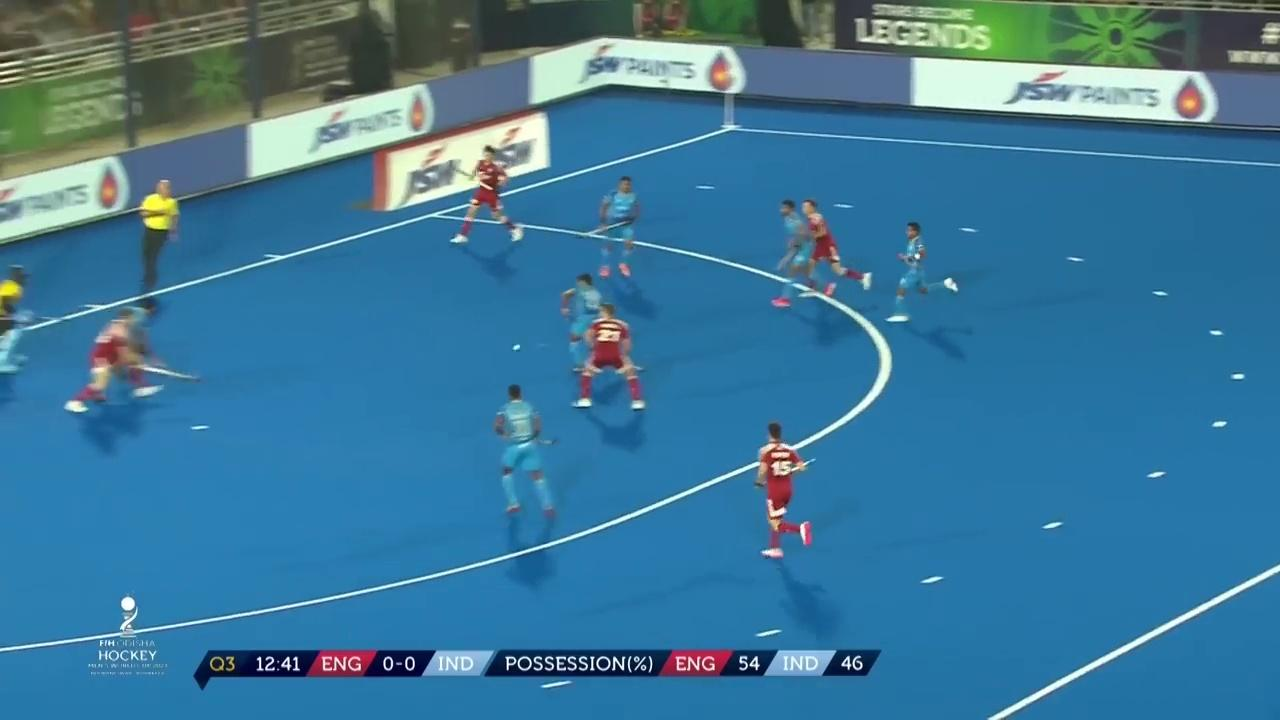ball: (505, 339, 530, 359)
